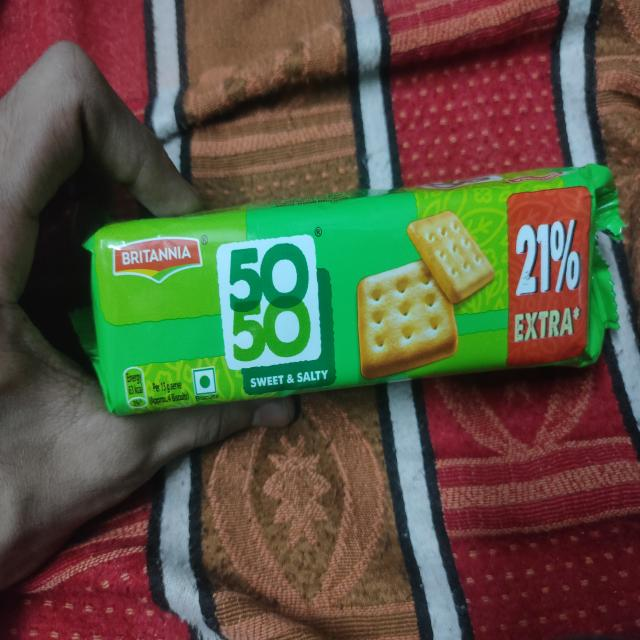50 50 biscuit: (68, 160, 616, 415)
